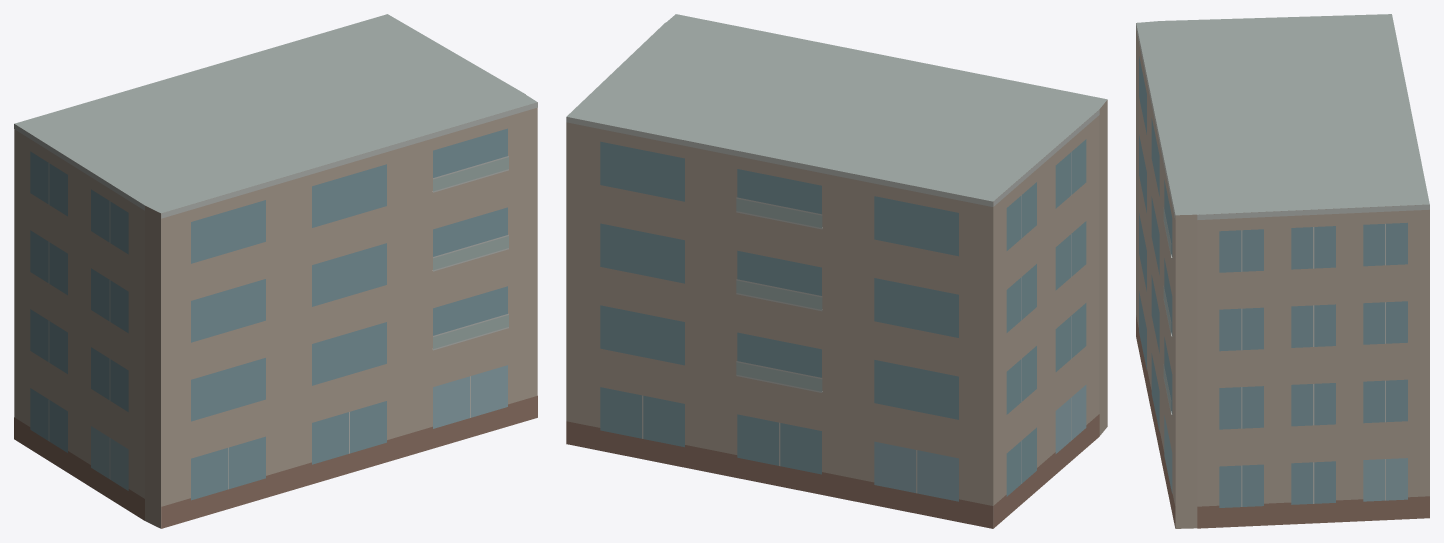
The model's file is survey-upis-32528012.glb.
3 views of the same model, side by side, from view 1: azimuth 30°, elevation 25°; view 2: azimuth 150°, elevation 25°; view 3: azimuth 270°, elevation 25° (orthographic). The views are drawn at different scales.
Visible parts, largest first — view 1: survey-upis-32528012.tmp; view 2: survey-upis-32528012.tmp; view 3: survey-upis-32528012.tmp.
Boxes of the visible parts, x1=… form: survey-upis-32528012.tmp: x1=14, y1=14, x2=537, y2=528; survey-upis-32528012.tmp: x1=566, y1=14, x2=1107, y2=528; survey-upis-32528012.tmp: x1=1136, y1=14, x2=1429, y2=528.
Bounding box in the file's own units: 19.82 × 14.4 × 12.23.
